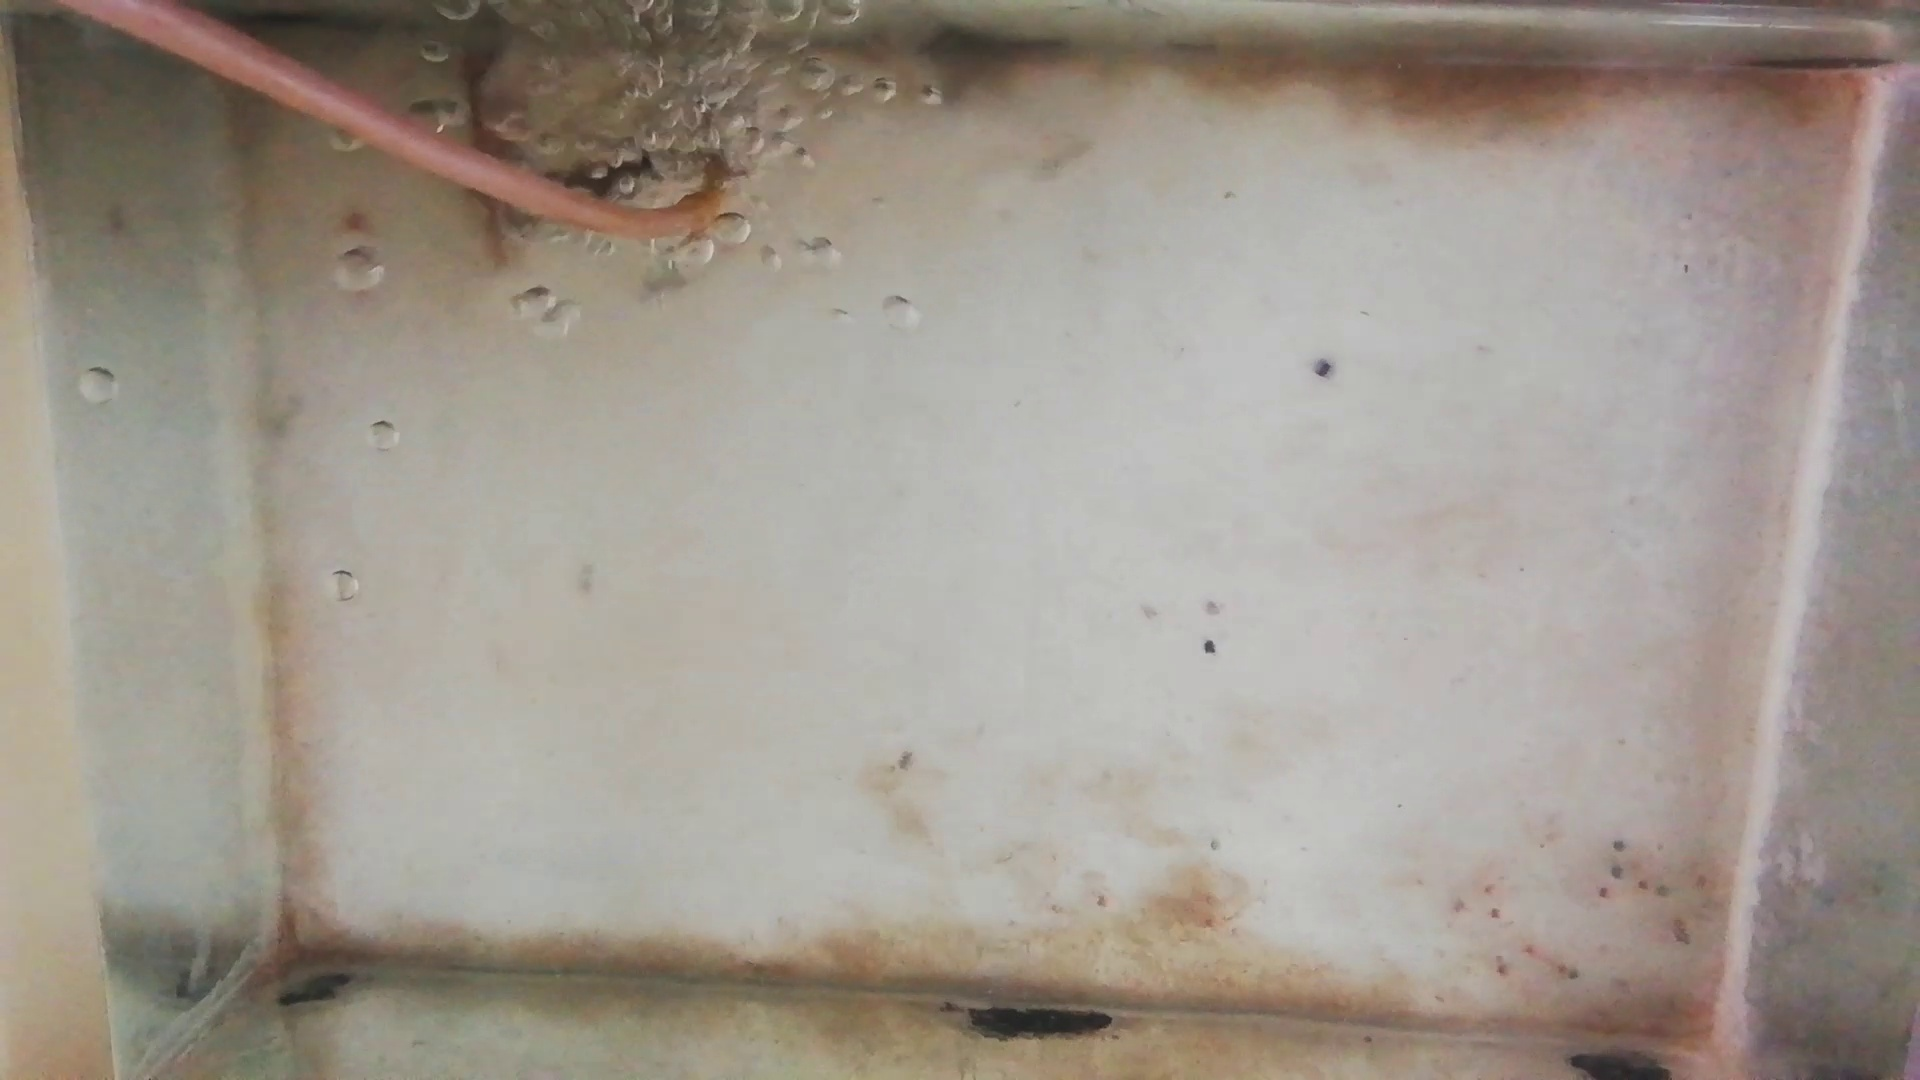fish: (460, 12, 513, 268), (525, 145, 669, 210)
